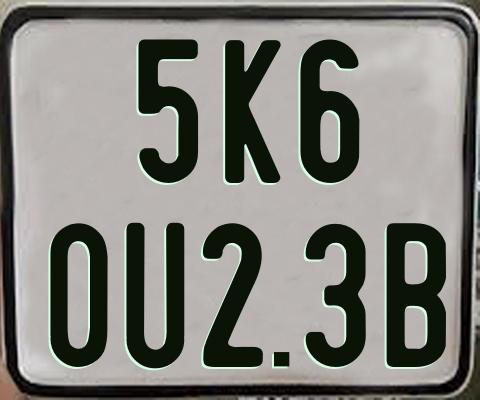0: (48, 223, 106, 373)
2: (203, 223, 265, 368)
3: (305, 224, 367, 371)
5: (135, 37, 199, 185)
6: (298, 36, 363, 183)
B: (384, 223, 449, 373)
K: (223, 37, 285, 180)
U: (123, 221, 183, 372)
